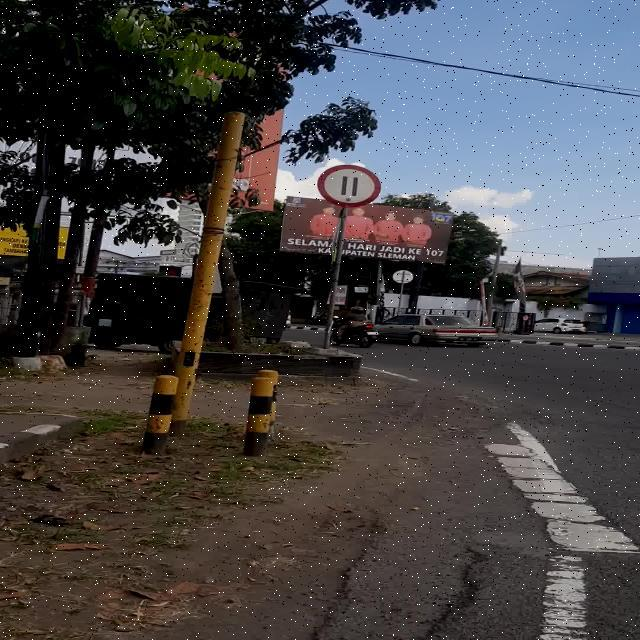Larangan Muatan - 10 ton: (317, 165, 381, 208)
